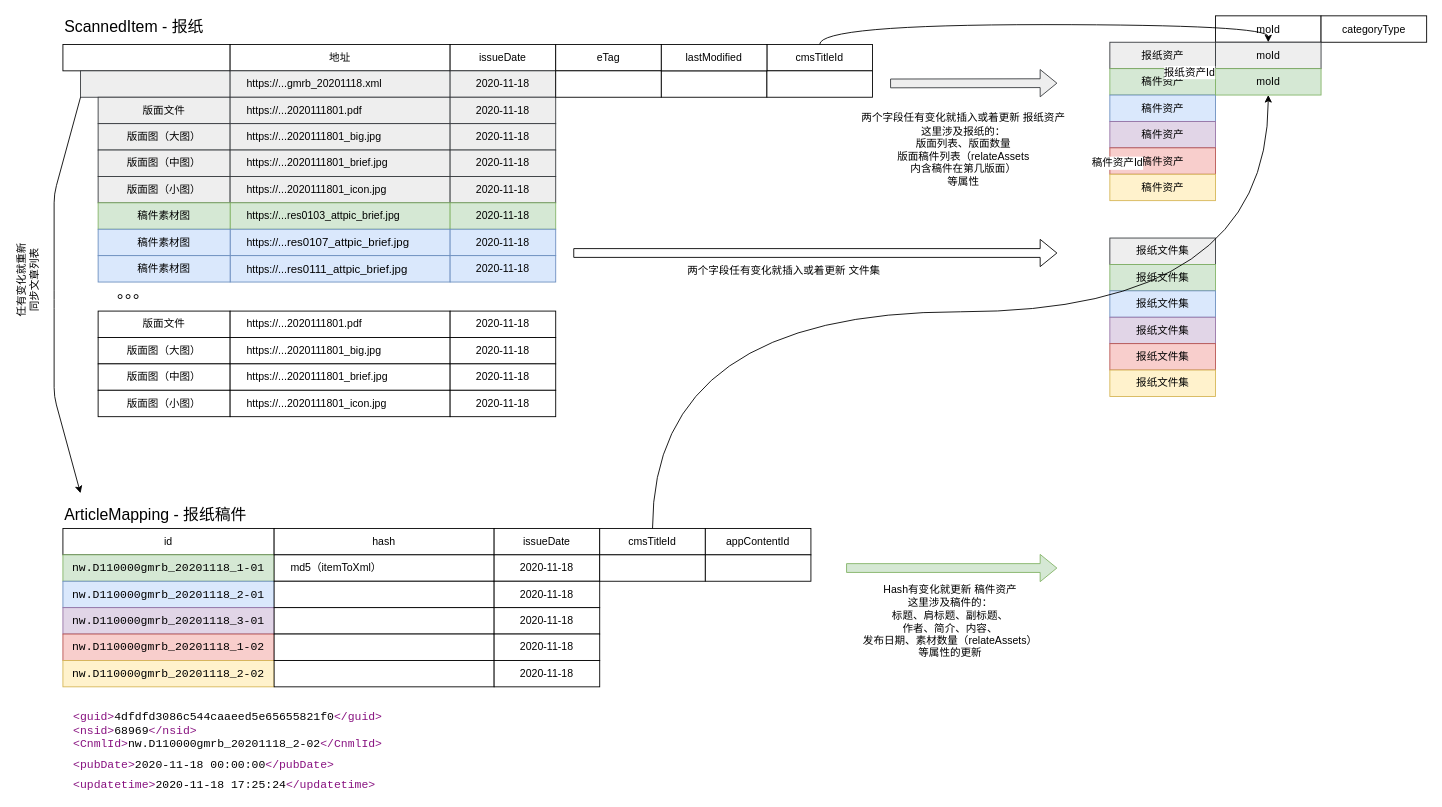
Image size: 1442x807. Some labels were removed from this diagram. The shapes that lost their labels are listed below. From the top down, each one's centre as x and y in pixels, then its label:
At [146,57]: "资源".
At [155,83]: "报纸期次".
